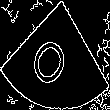O_NE: (31, 22, 79, 88)
